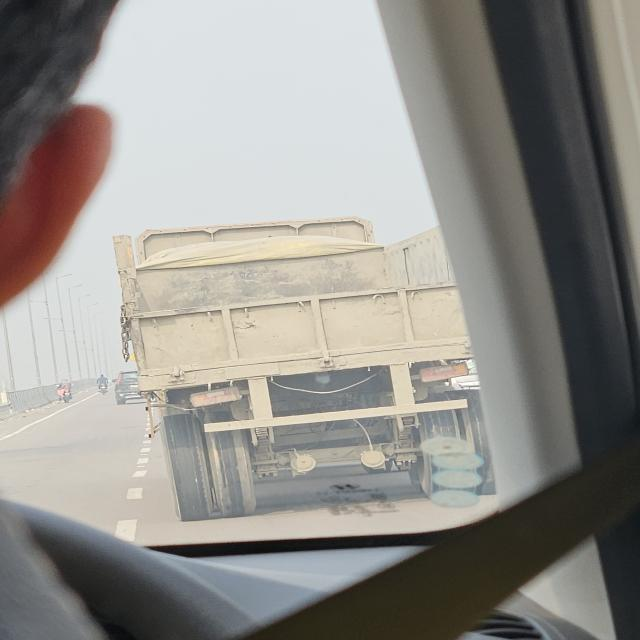uncovered: (118, 216, 484, 494)
